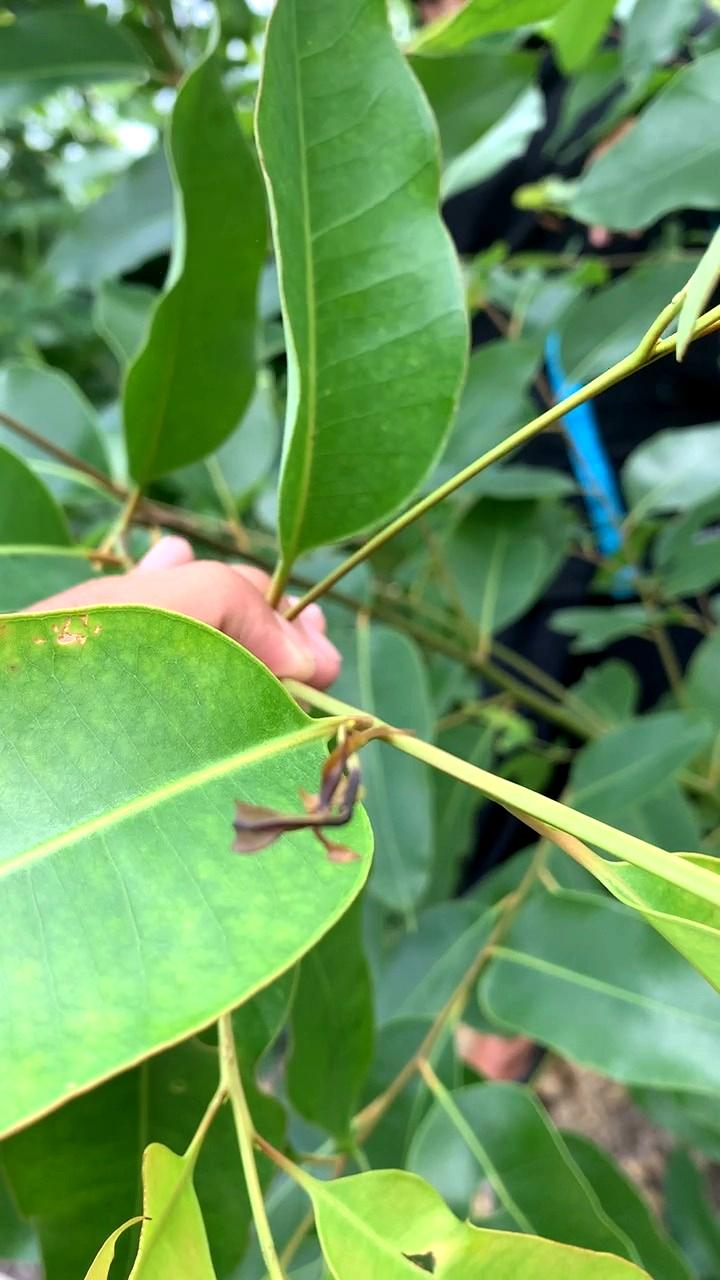Helopeltis-Withered Sprout: (226, 718, 419, 867)
